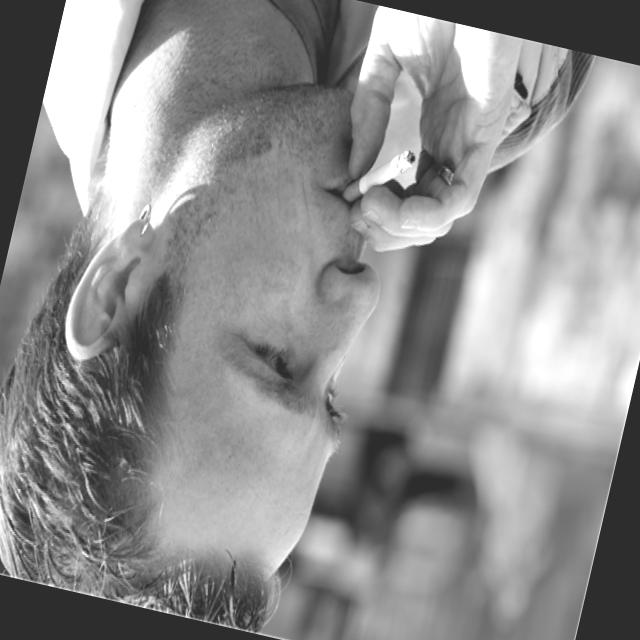cigarette: (343, 136, 418, 213)
